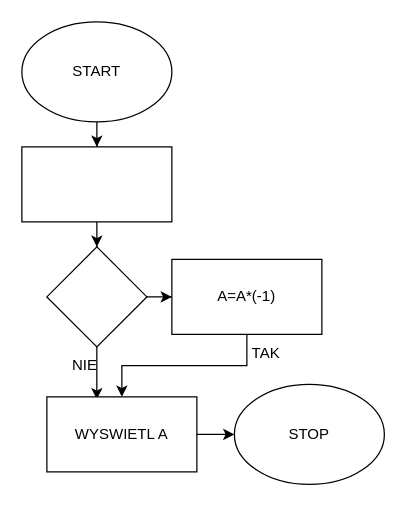
This 406x506 diagram has some shape labels left out. The centre of each missing label's shape, as x and y in pixels:
"A<0" belongs at (x=96, y=296).
"POLICZ WARTOSC A" belongs at (x=96, y=184).
